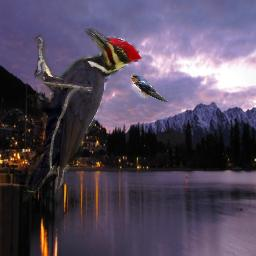Swallow: (130, 73, 168, 102)
Woodpecker: (23, 28, 143, 202)
